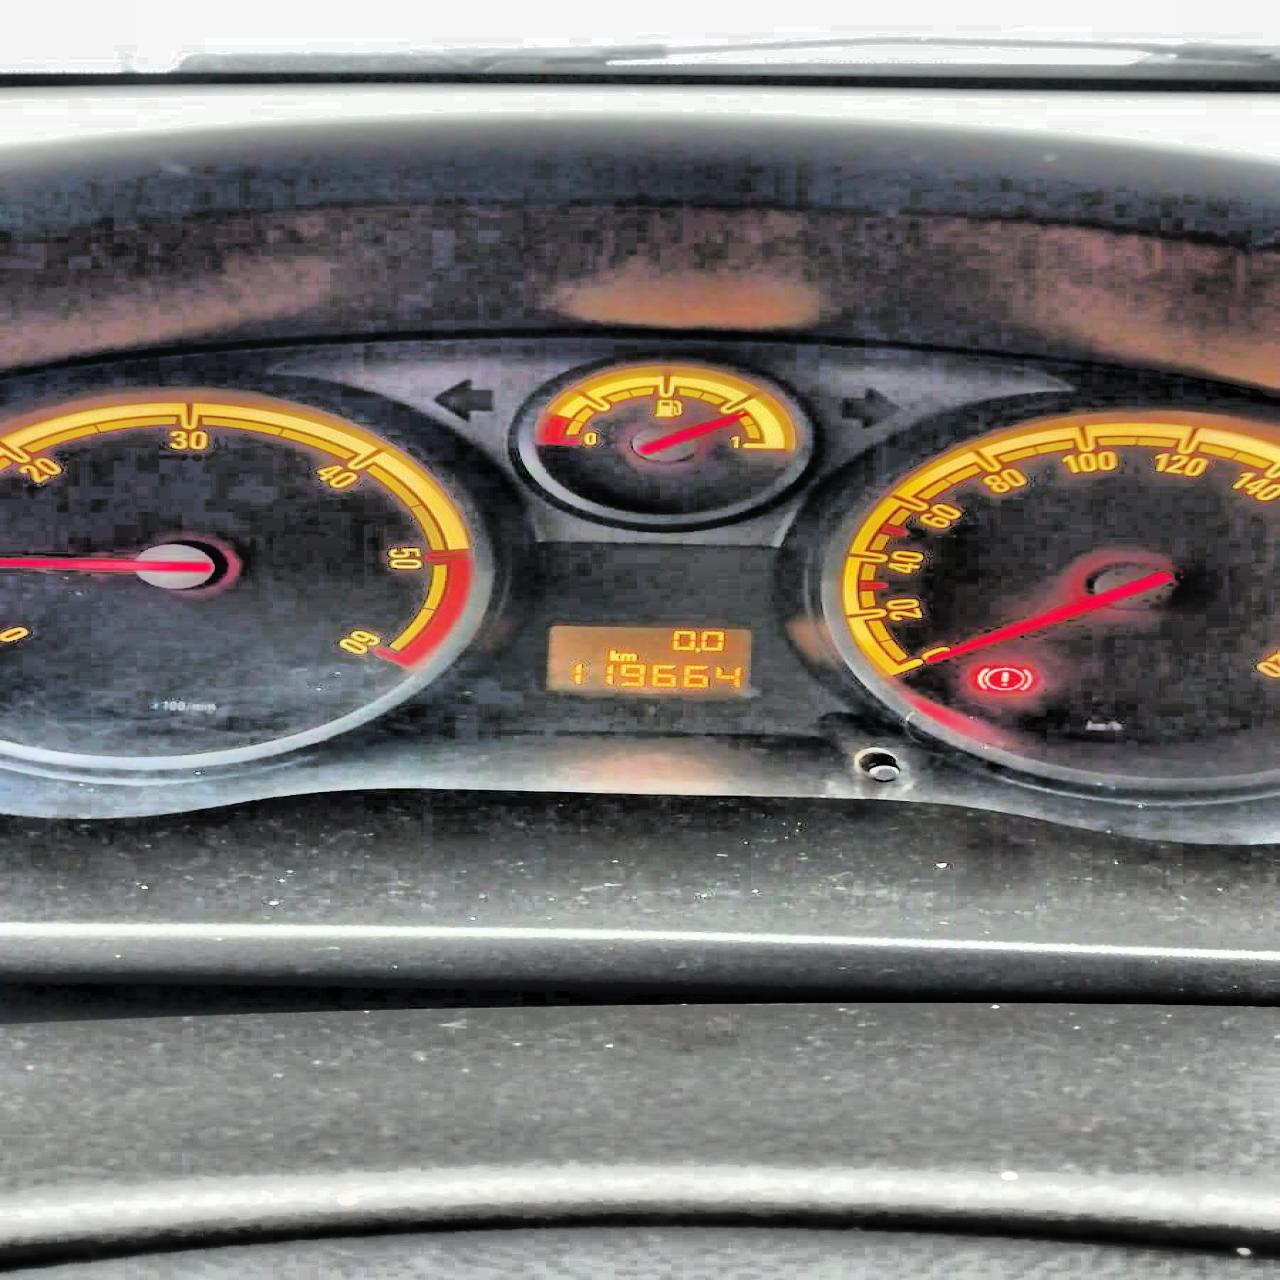-: (694, 646, 701, 652)
0: (699, 631, 723, 651), (672, 629, 695, 649)
1: (572, 662, 581, 683), (605, 663, 614, 685)
4: (714, 666, 740, 687)
6: (680, 663, 708, 687), (651, 663, 678, 686)
9: (619, 663, 645, 686)
X: (619, 652, 638, 661), (607, 649, 619, 661)
odometer: (542, 621, 754, 699)
